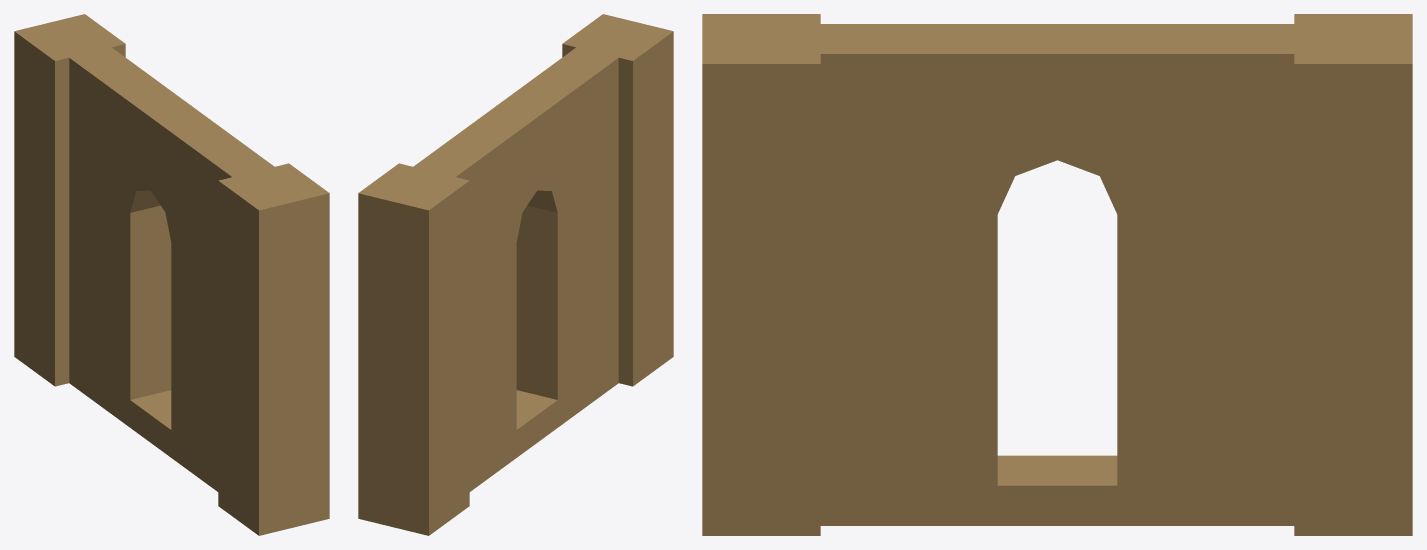
The model's file is wood_window_round_long_01.glb.
3 renders of one model, left to right at view 1: azimuth 30°, elevation 25°; view 2: azimuth 150°, elevation 25°; view 3: azimuth 270°, elevation 25°, orthographic. The views are drawn at different scales.
Visible parts, largest first — view 1: Mesh1 Wood_Window_Round_Long Model; view 2: Mesh1 Wood_Window_Round_Long Model; view 3: Mesh1 Wood_Window_Round_Long Model.
Boxes of the visible parts, box(x1,y1,x2,y2) form: Mesh1 Wood_Window_Round_Long Model: box(14, 14, 329, 535); Mesh1 Wood_Window_Round_Long Model: box(358, 14, 673, 535); Mesh1 Wood_Window_Round_Long Model: box(702, 14, 1412, 535).
Bounding box in the file's own units: 0.5 × 2.2 × 3.
